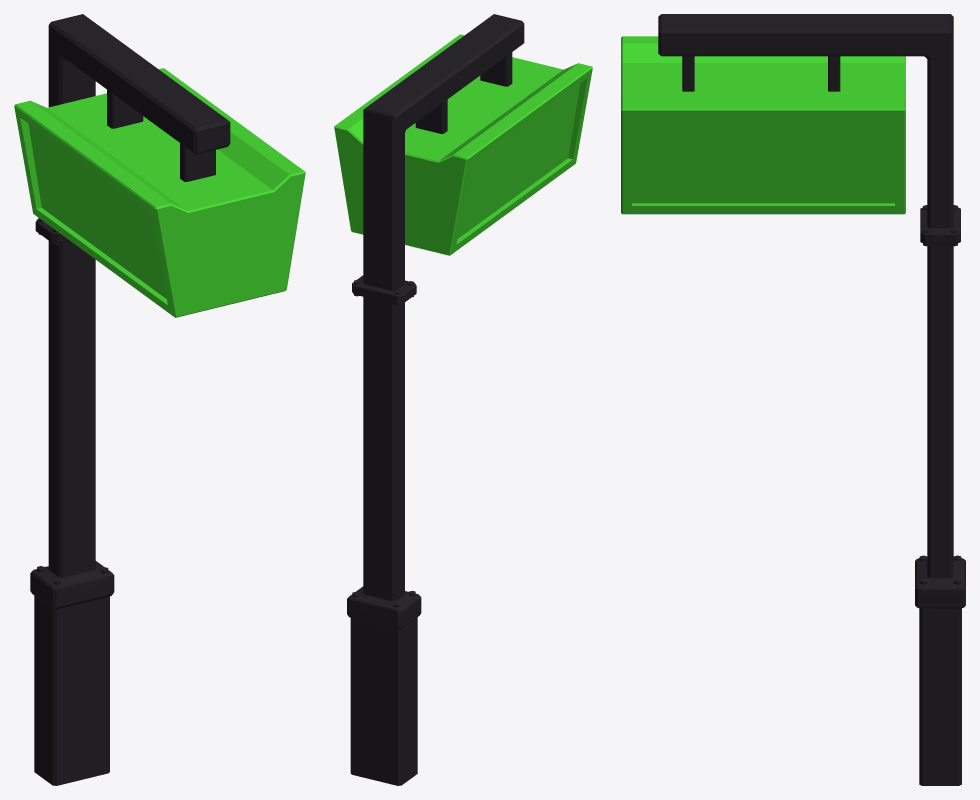
File: SM_ElectricPanel.fbx
3 views of the same model, side by side, from view 1: azimuth 30°, elevation 25°; view 2: azimuth 150°, elevation 25°; view 3: azimuth 270°, elevation 25° (orthographic). The views are drawn at different scales.
Parts seen in each view (by area): view 1: pCylinder11; view 2: pCylinder11; view 3: pCylinder11.
Part boxes in pixels (left/top/right/bottom): pCylinder11: left=14, top=14, right=305, bottom=785; pCylinder11: left=334, top=14, right=592, bottom=785; pCylinder11: left=621, top=14, right=965, bottom=785.
Bounding box in the file's own units: 124 × 590 × 246.
